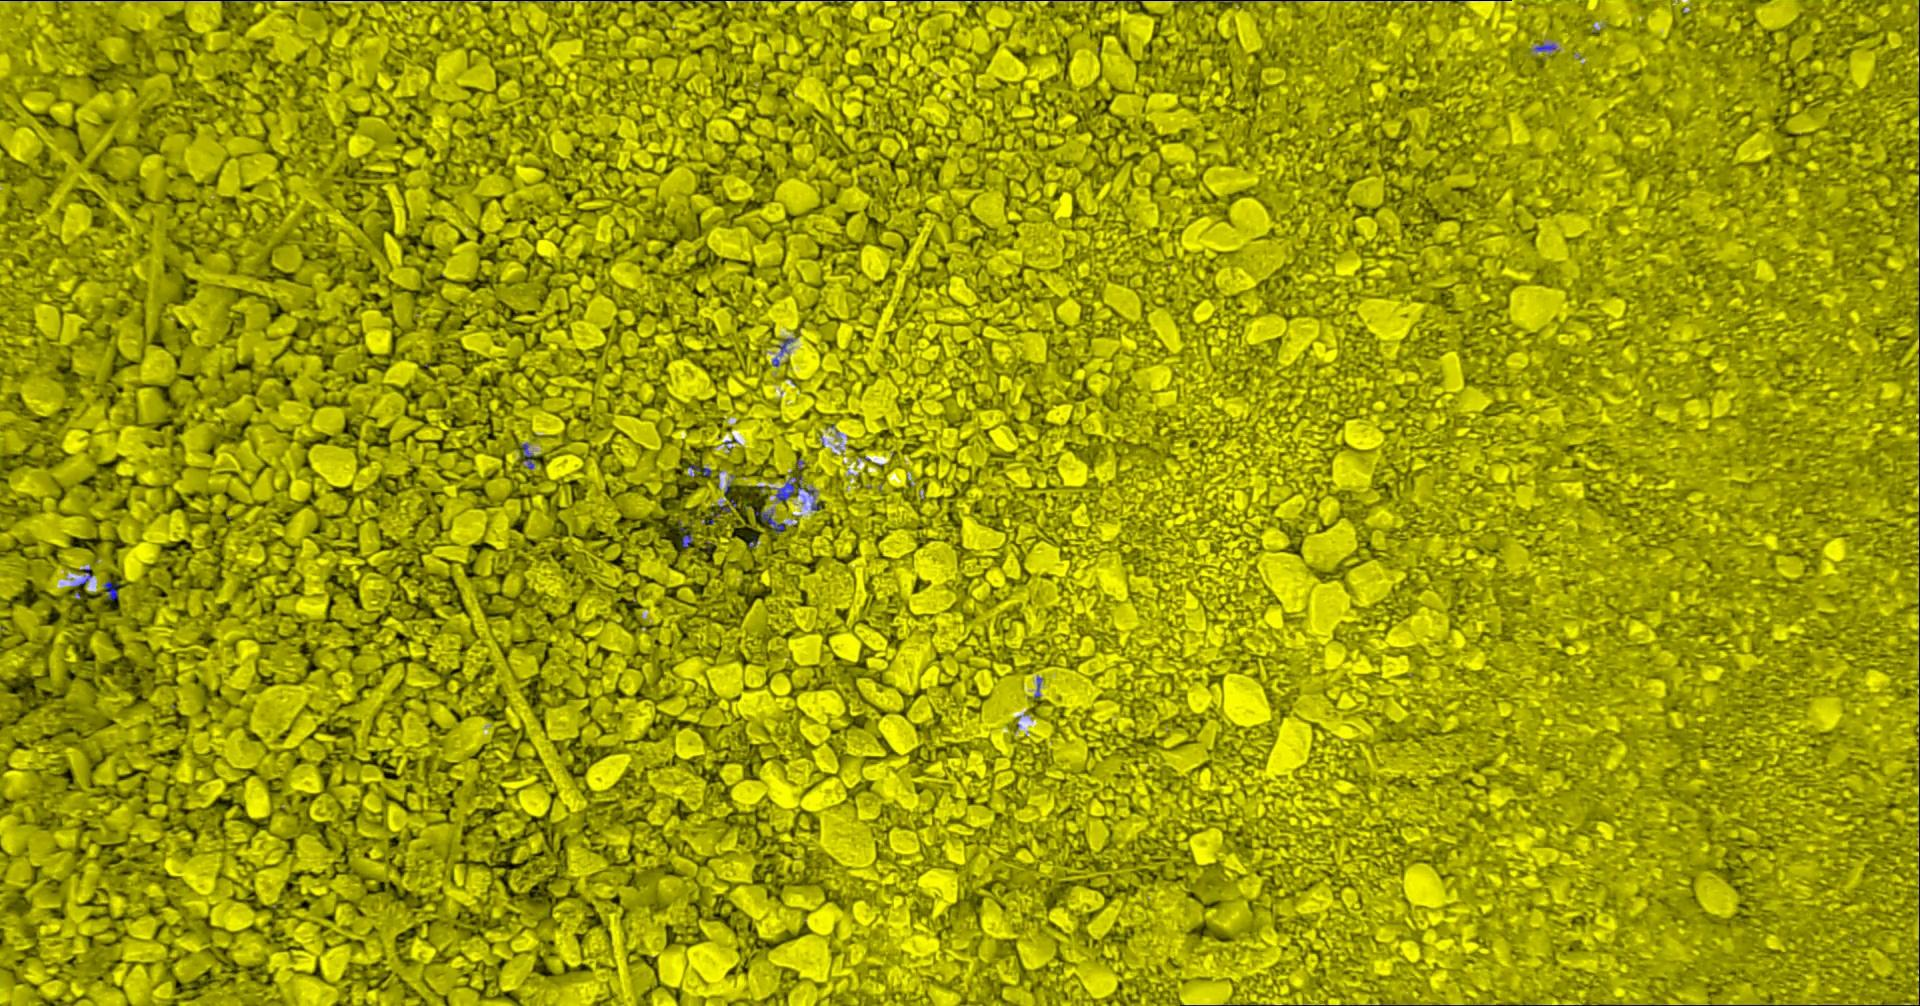ant: (775, 475, 803, 500), (756, 511, 783, 533), (677, 520, 693, 547), (103, 580, 119, 600), (521, 443, 533, 467), (688, 464, 711, 475)
